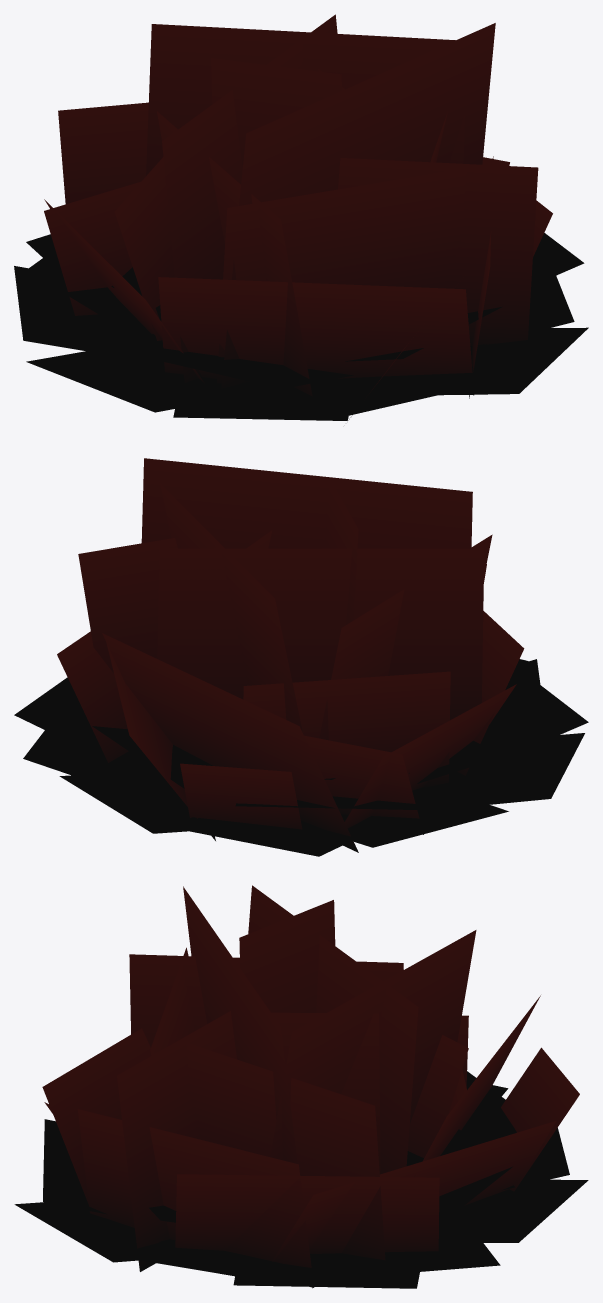
The model's file is Foliage1.fbx.
3 renders of one model, top to bottom at view 1: azimuth 30°, elevation 25°; view 2: azimuth 150°, elevation 25°; view 3: azimuth 270°, elevation 25°, orthographic. The views are drawn at different scales.
Visible parts, largest first — view 1: TFD_Grass_Patch_02A_LOD0; view 2: TFD_Grass_Patch_02A_LOD0; view 3: TFD_Grass_Patch_02A_LOD0.
Boxes of the visible parts, <box> form: TFD_Grass_Patch_02A_LOD0: <box>14,14,588,420</box>; TFD_Grass_Patch_02A_LOD0: <box>14,458,588,856</box>; TFD_Grass_Patch_02A_LOD0: <box>14,885,588,1288</box>.
Size of the model in its own units: 237 by 124 by 236.
